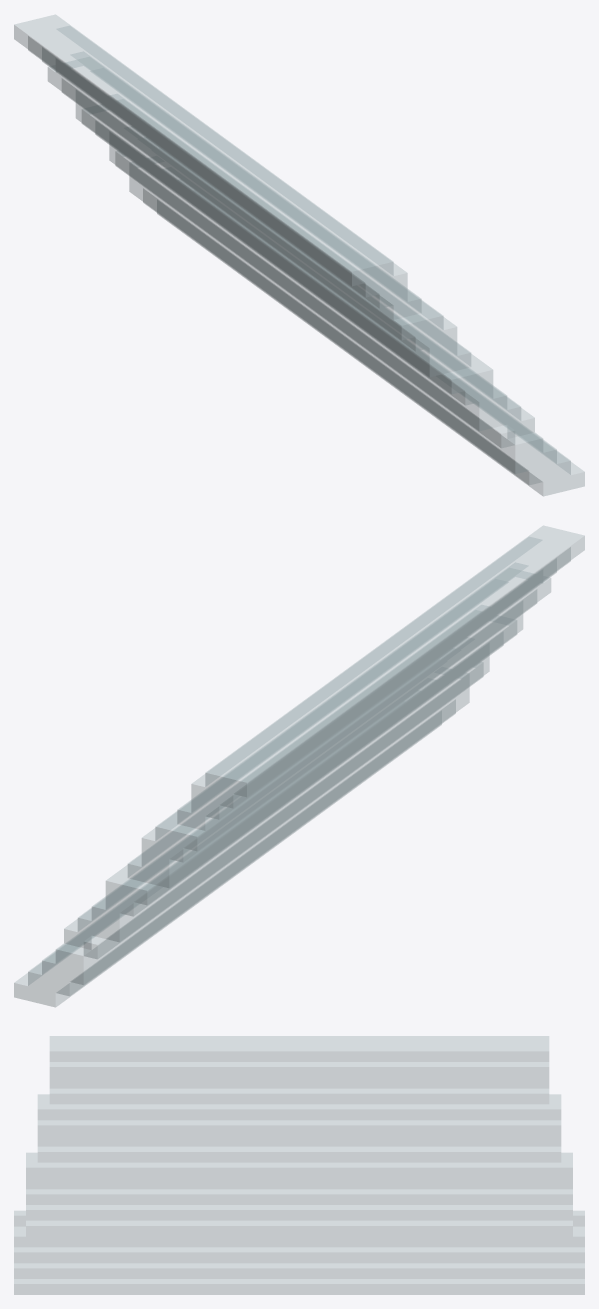
File: suv_windscreen.glb
The picture shows the model from 3 angles, top to bottom: view 1: azimuth 30°, elevation 25°; view 2: azimuth 150°, elevation 25°; view 3: azimuth 270°, elevation 25°; orthographic projection. The views are drawn at different scales.
Parts seen in each view (by area): view 1: body:compound; view 2: body:compound; view 3: body:compound.
Part boxes in pixels (bbox=[...]): body:compound: bbox=[14, 14, 584, 496]; body:compound: bbox=[14, 525, 584, 1007]; body:compound: bbox=[14, 1036, 584, 1294].
Bounding box in the file's own units: 0.4688 × 0.5312 × 1.5.
